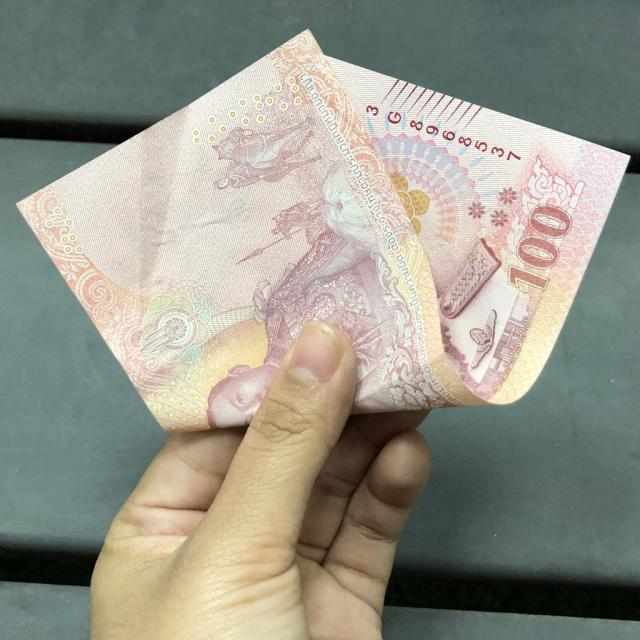THAI100: (18, 31, 628, 429)
